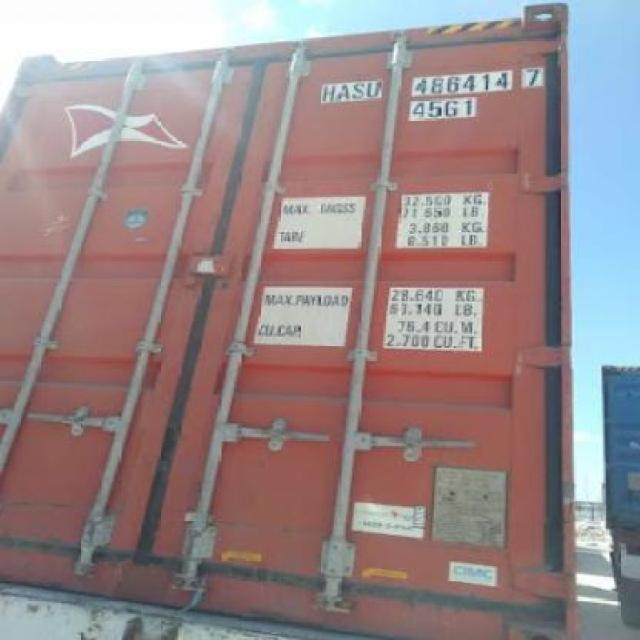ISO: (408, 100, 478, 120)
container_number: (324, 72, 536, 98)
